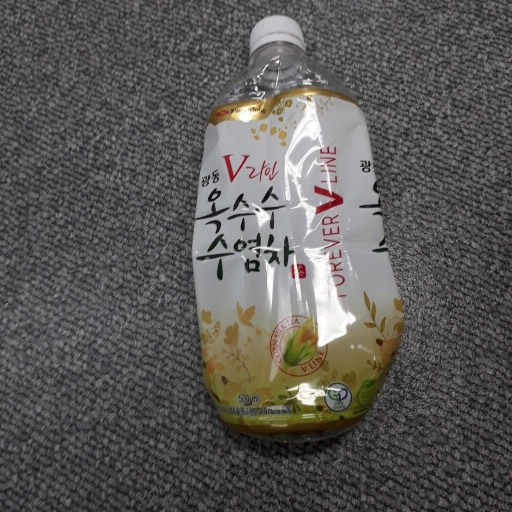Plastic_0: (186, 14, 405, 440)
